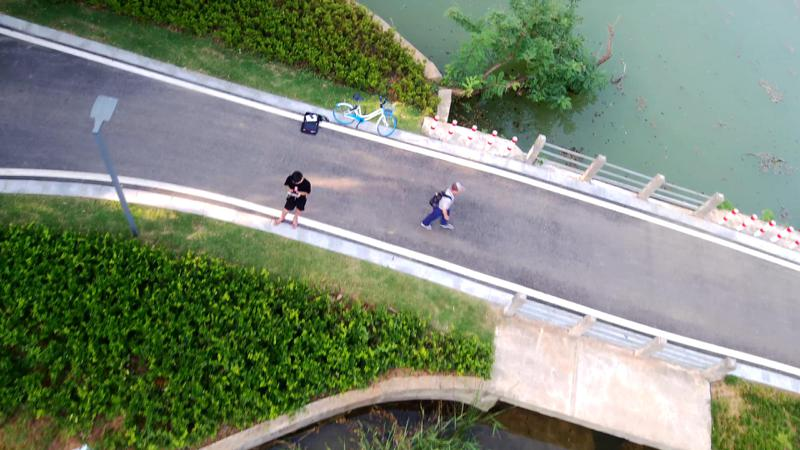passerby: (419, 179, 467, 231), (272, 170, 312, 229)
